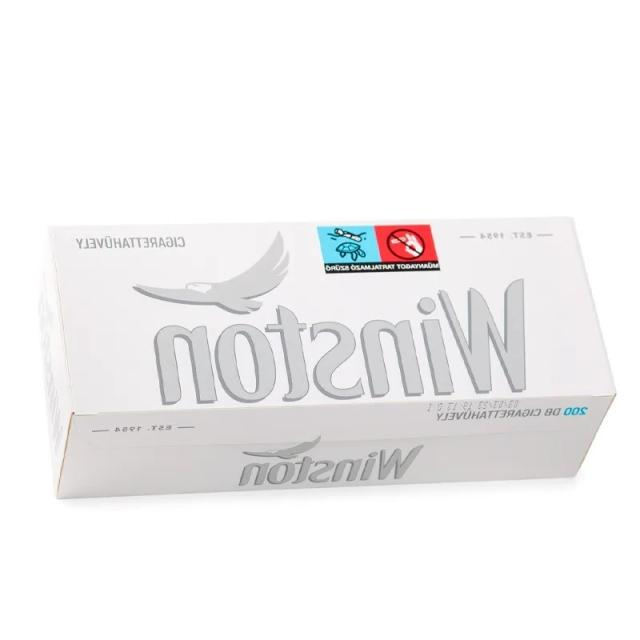winston: (16, 198, 631, 518)
